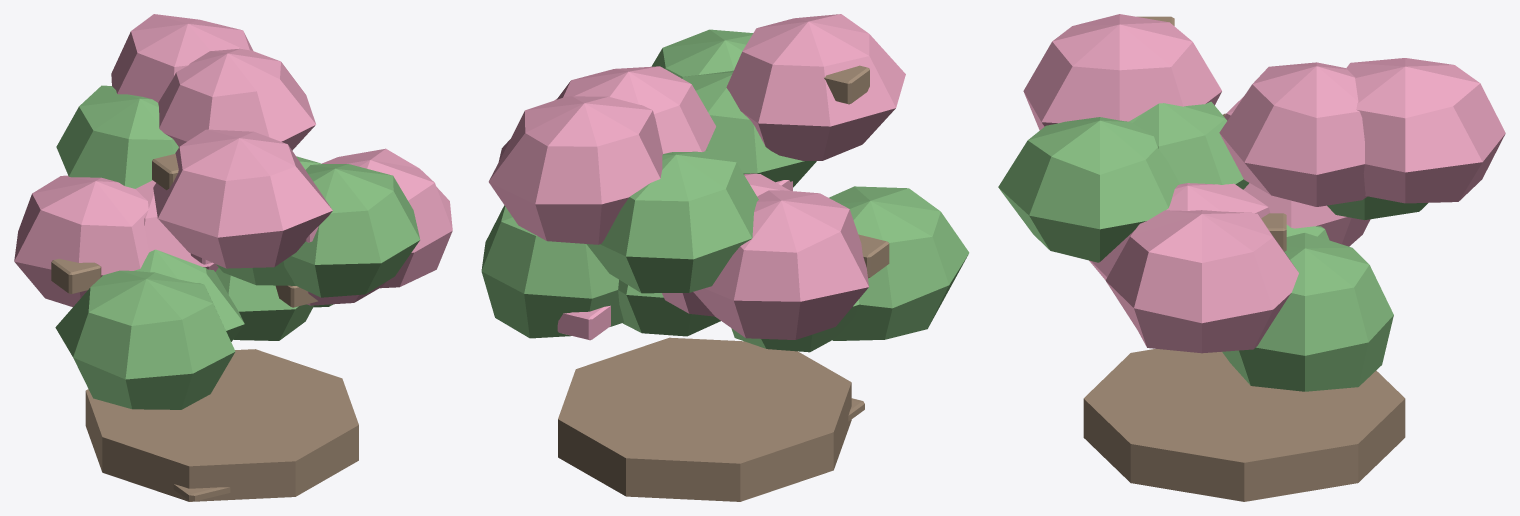
File: b08_rhododendron.glb
3 renders of one model, left to right at view 1: azimuth 30°, elevation 25°; view 2: azimuth 150°, elevation 25°; view 3: azimuth 270°, elevation 25°, orthographic. The views are drawn at different scales.
Parts seen in each view (by area): view 1: b08_rhododendron; view 2: b08_rhododendron; view 3: b08_rhododendron.
Boxes of the visible parts, bbox=[...] form: b08_rhododendron: bbox=[14, 14, 452, 501]; b08_rhododendron: bbox=[481, 14, 969, 501]; b08_rhododendron: bbox=[998, 14, 1505, 501].
Size of the model in its own units: 1.35 by 1.16 by 1.36.
